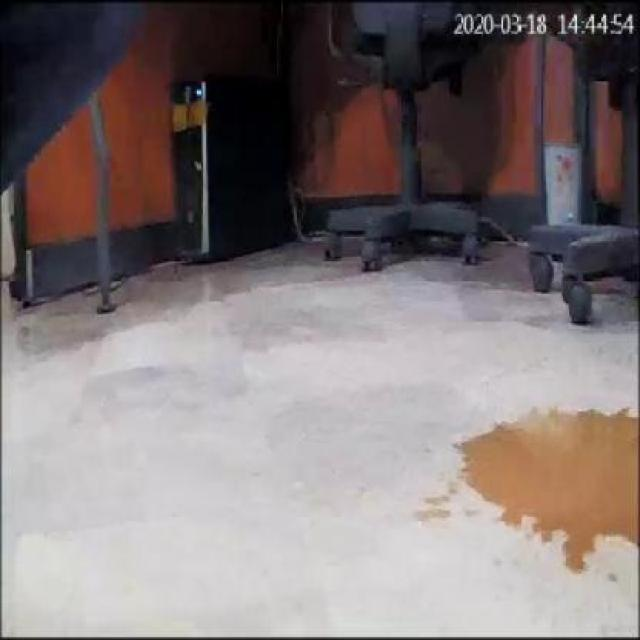spillage: (459, 411, 637, 564)
